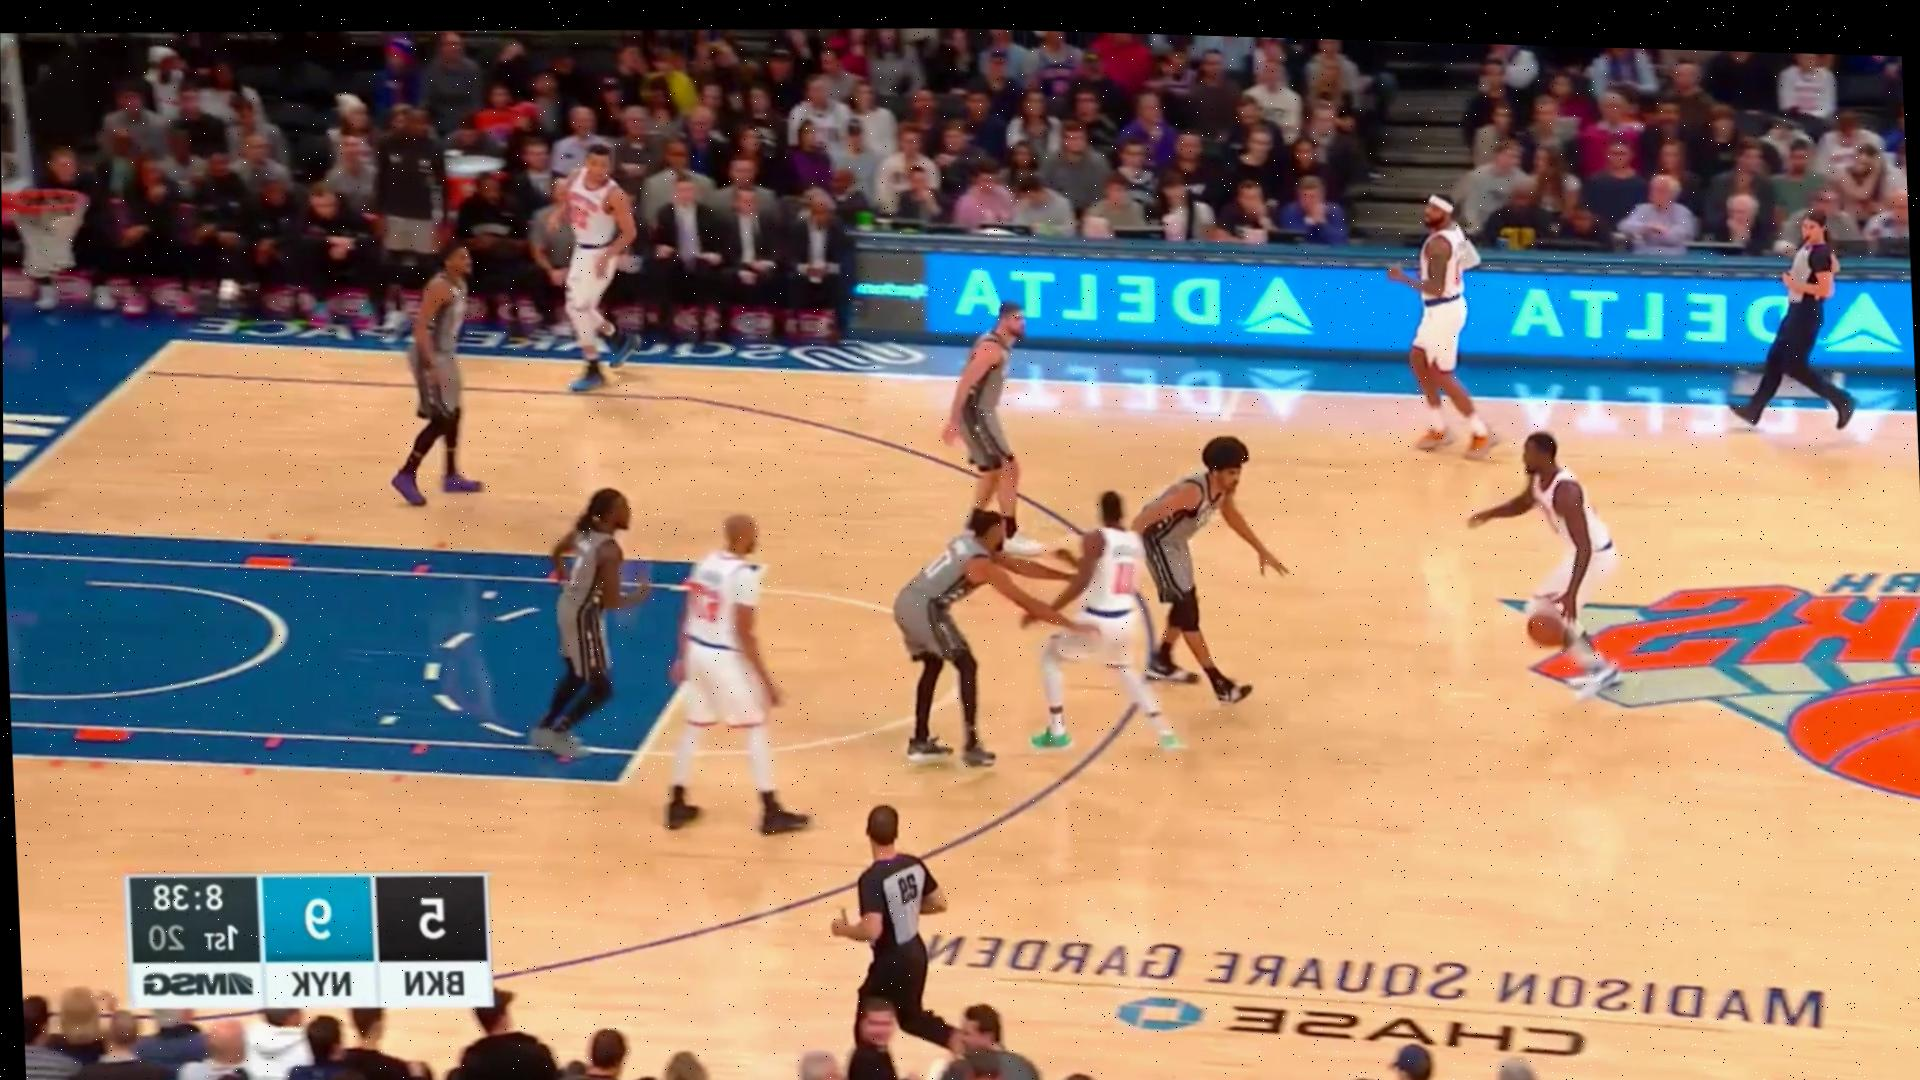no_foul: (877, 473, 1147, 758)
